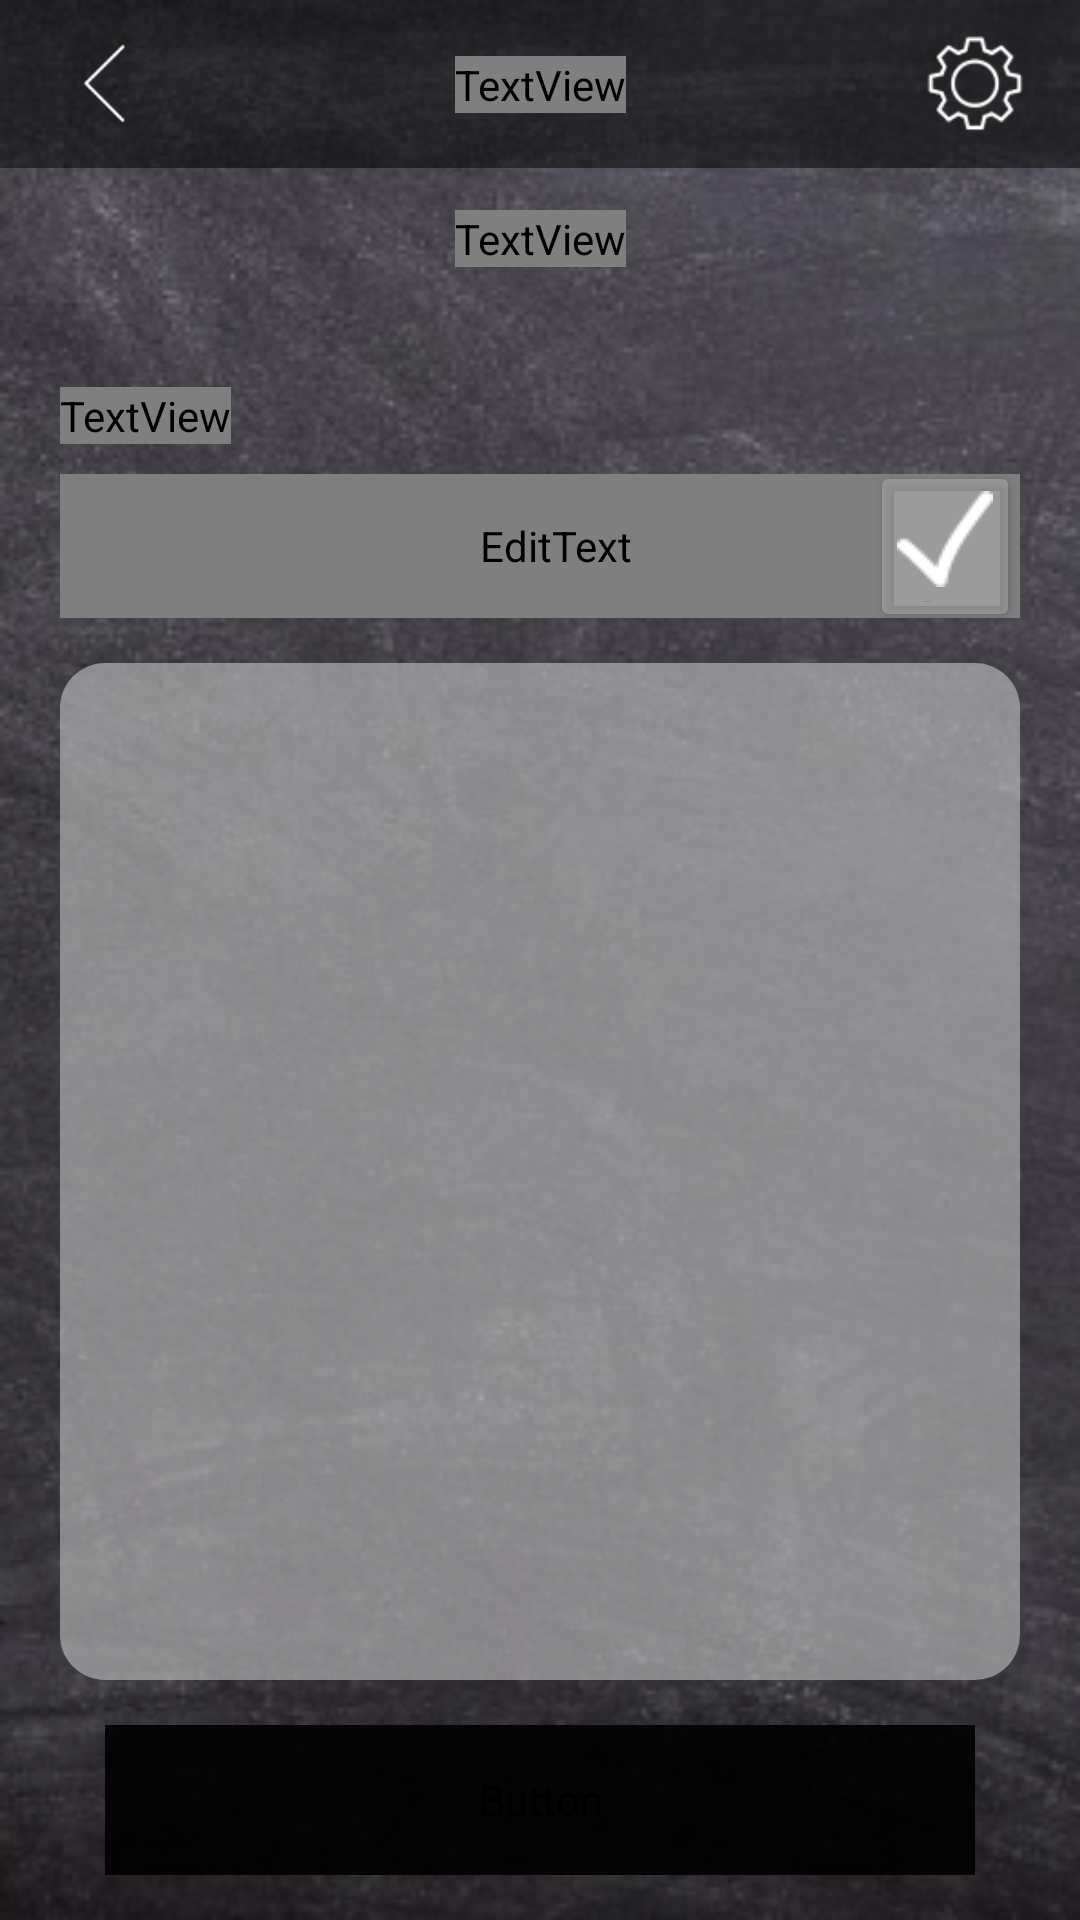

Screen size 1080×1920. Icon name, then its box in pixels as (x1, y1, x2, y2):
config: (927, 36, 1023, 130)
voltar: (84, 44, 125, 122)
